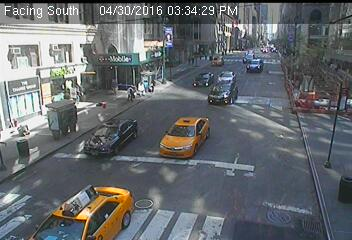neg: (34, 97, 66, 139), (188, 171, 220, 213), (303, 146, 332, 186), (265, 63, 292, 100), (246, 127, 273, 164), (86, 125, 113, 161), (214, 29, 239, 63), (141, 46, 165, 78), (72, 178, 95, 208), (268, 183, 290, 212), (10, 149, 30, 176), (169, 122, 186, 145), (224, 80, 238, 99)
pos: (128, 85, 141, 102)
